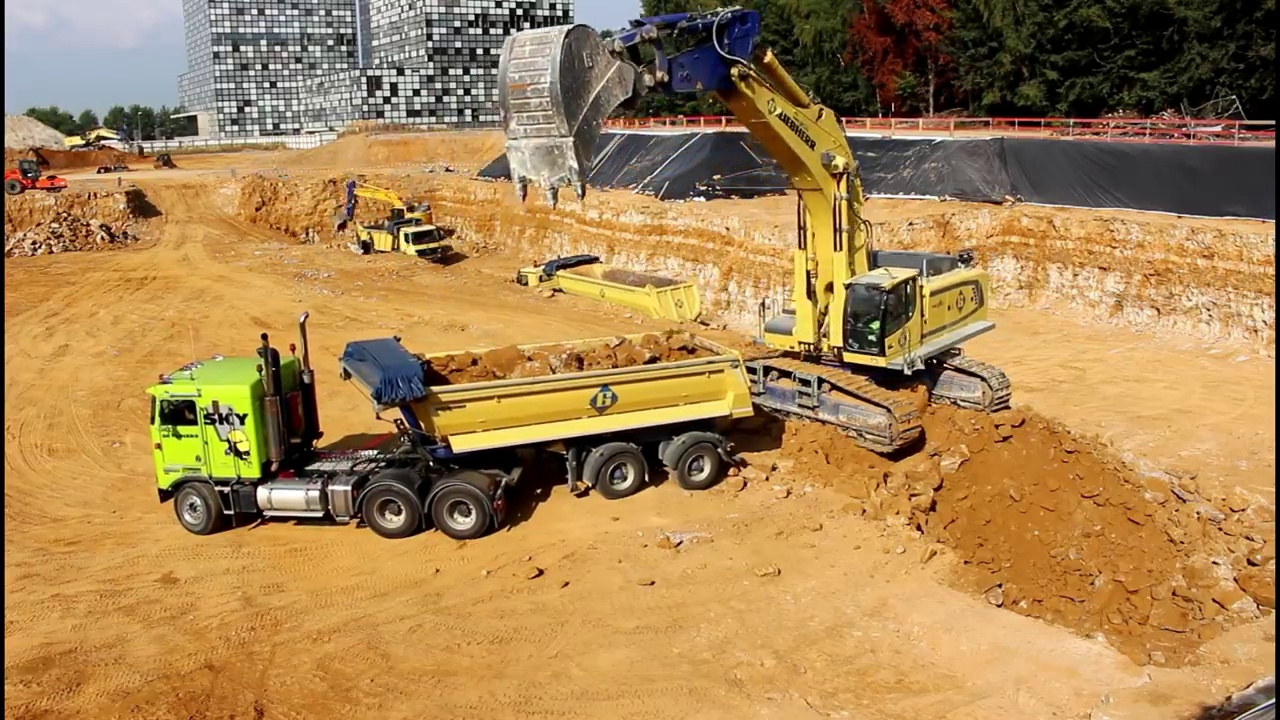compactor: (3, 158, 72, 195)
excavator: (495, 7, 1017, 457), (331, 178, 443, 248), (65, 124, 146, 162)
truck: (144, 309, 760, 544), (516, 252, 707, 350), (360, 220, 450, 276)
